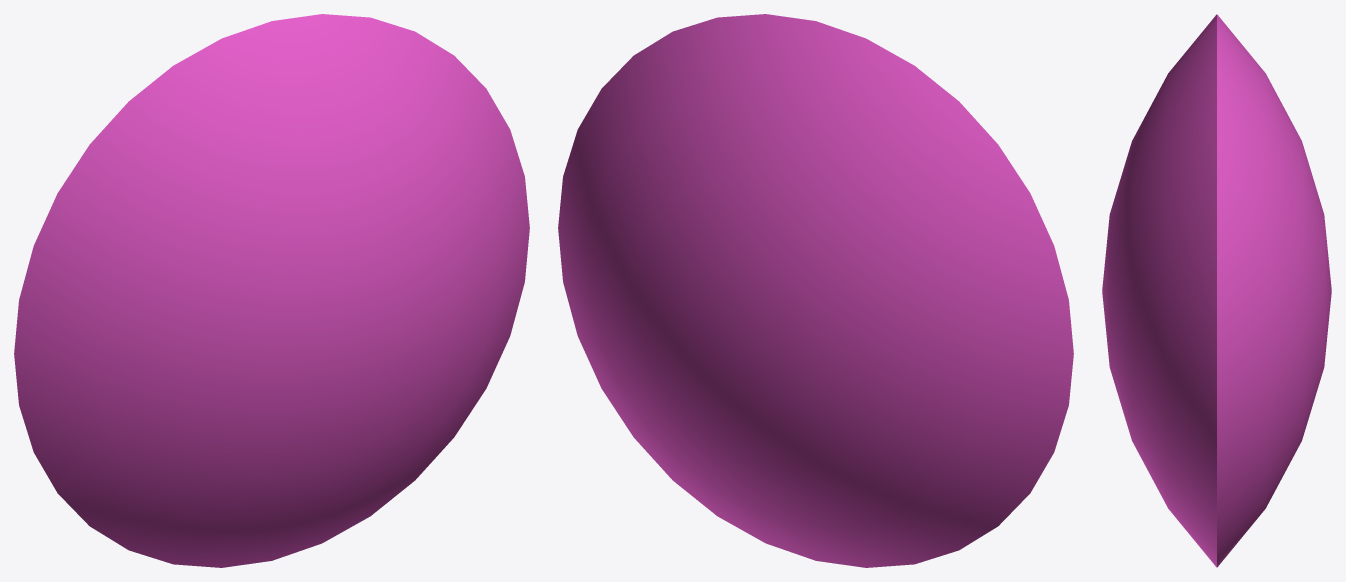
File: convexLens.obj
The picture shows the model from 3 angles, left to right: view 1: azimuth 30°, elevation 25°; view 2: azimuth 150°, elevation 25°; view 3: azimuth 270°, elevation 25°; orthographic projection. The views are drawn at different scales.
Parts seen in each view (by area): view 1: Convex; view 2: Convex; view 3: Convex.
Part boxes in pixels (bbox=[...]): Convex: bbox=[14, 14, 529, 567]; Convex: bbox=[558, 14, 1073, 567]; Convex: bbox=[1102, 14, 1331, 567].
Size of the model in its own units: 1.41 by 1.41 by 0.5858.
